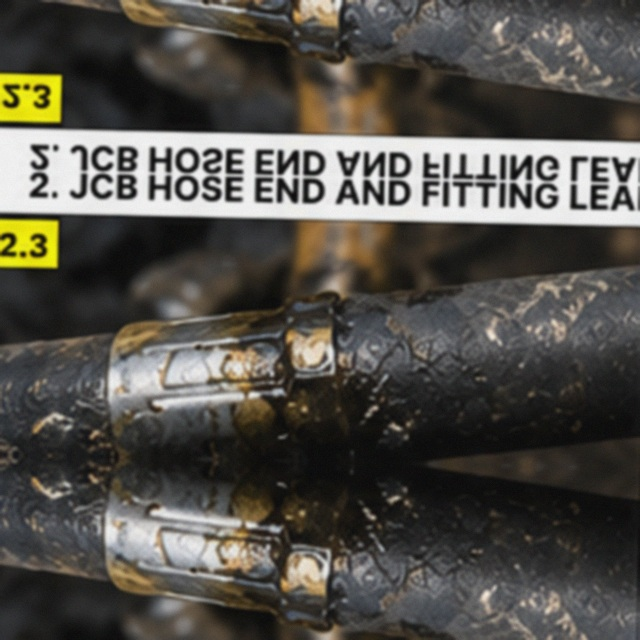hydraulic_oil_leak: (188, 248, 452, 458)
